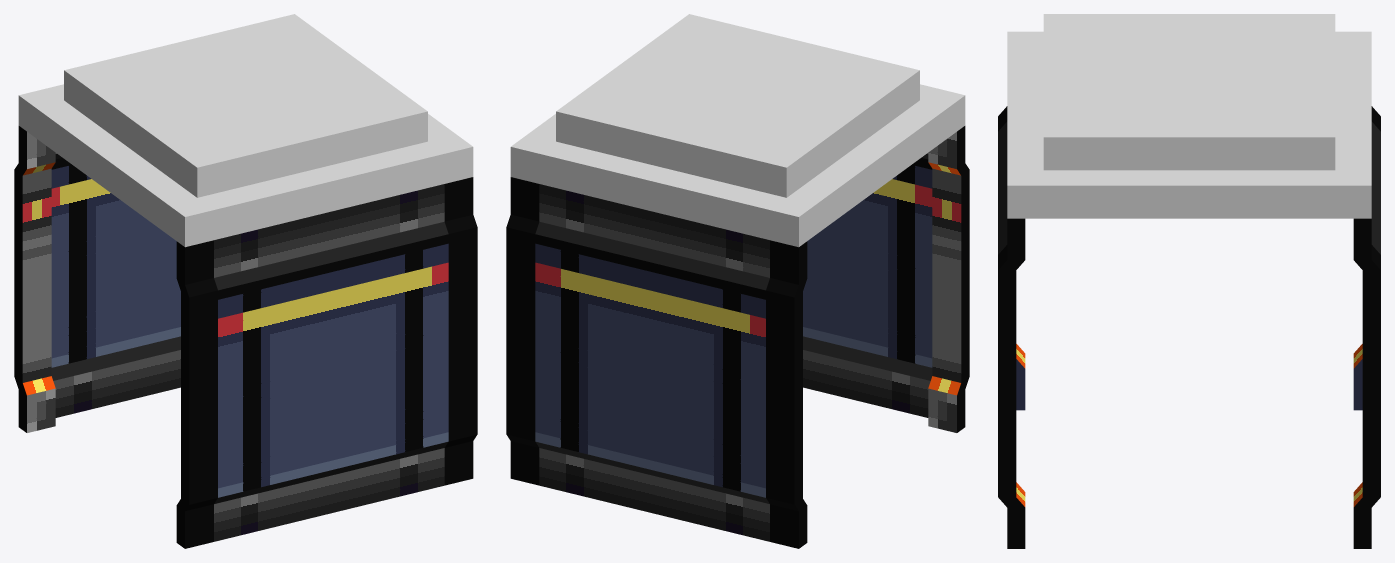
The picture shows the model from 3 angles, left to right: view 1: azimuth 30°, elevation 25°; view 2: azimuth 150°, elevation 25°; view 3: azimuth 270°, elevation 25°; orthographic projection. The views are drawn at different scales.
Parts seen in each view (by area): view 1: S, Roof, N; view 2: N, Roof, S; view 3: Roof, N, S.
Boxes of the visible parts, <box> form: S: <box>176,177,477,548</box>; Roof: <box>18,14,473,247</box>; N: <box>14,126,180,432</box>; N: <box>506,177,807,548</box>; Roof: <box>510,14,965,247</box>; S: <box>803,126,969,432</box>; Roof: <box>1007,14,1371,218</box>; N: <box>1353,106,1380,548</box>; S: <box>998,106,1025,548</box>.
Bounding box in the file's own units: 2 × 2.4 × 2.1.
Materials: 2 (1 with a texture image).
